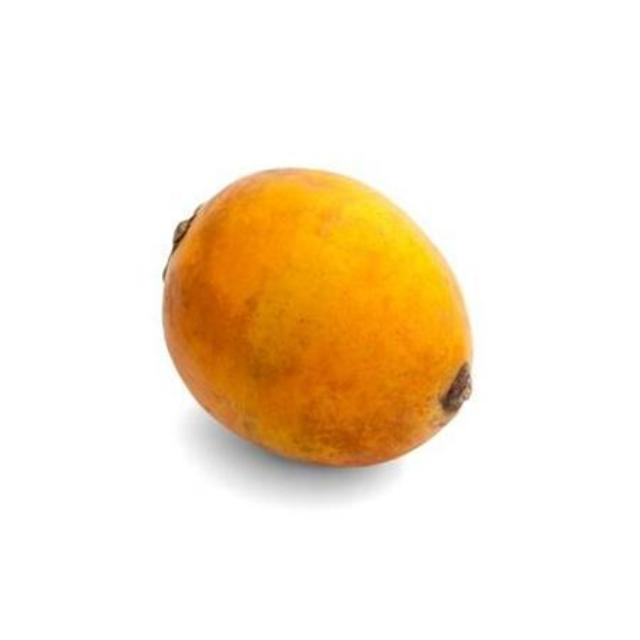good: (161, 170, 475, 470)
